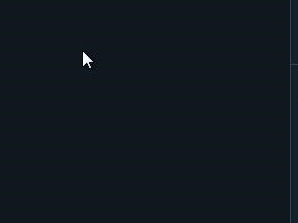cursor: (81, 50, 94, 70)
